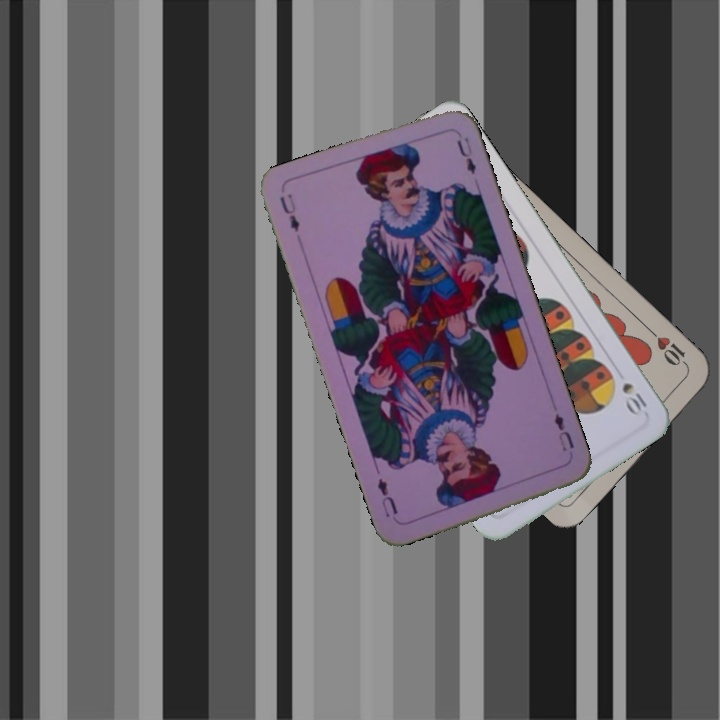EU: (550, 409, 577, 454), (276, 189, 302, 235)
H10: (645, 325, 692, 371)
S10: (618, 378, 650, 418)
